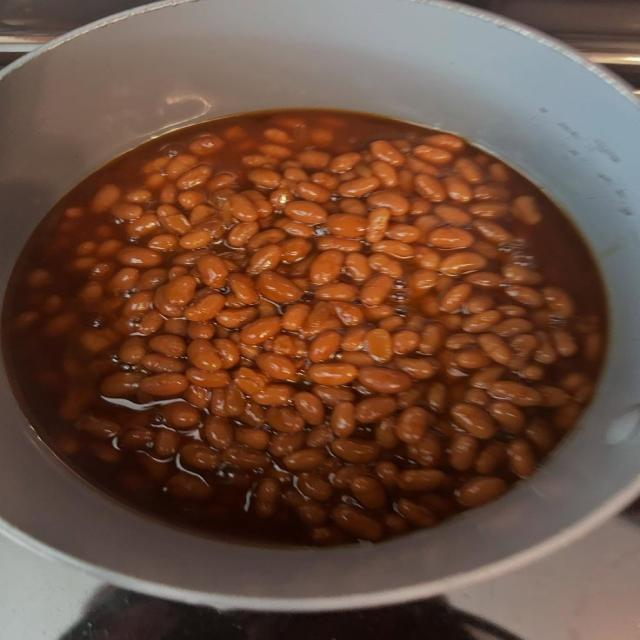beans: (11, 112, 605, 544), (332, 505, 383, 541), (349, 366, 411, 394), (451, 403, 496, 439), (307, 363, 371, 386), (257, 271, 301, 303), (488, 381, 542, 407), (458, 477, 506, 506), (397, 407, 431, 443), (331, 438, 379, 463), (309, 250, 344, 284), (240, 316, 281, 345), (351, 476, 386, 509), (489, 401, 525, 433), (439, 252, 486, 276), (187, 339, 222, 371), (185, 293, 225, 321), (477, 334, 513, 365), (355, 396, 396, 423), (256, 353, 297, 380), (140, 373, 188, 396), (397, 499, 436, 527), (427, 226, 474, 249), (367, 190, 410, 215), (360, 274, 393, 306), (474, 441, 506, 474), (449, 435, 478, 471), (507, 440, 535, 477), (294, 392, 325, 425), (298, 473, 333, 502), (285, 201, 327, 225), (163, 402, 200, 429), (542, 287, 573, 319), (197, 256, 228, 288), (440, 283, 473, 313), (394, 357, 437, 380), (398, 470, 445, 491), (267, 407, 304, 433), (309, 331, 340, 362), (283, 449, 326, 471), (117, 247, 162, 268), (327, 214, 366, 238), (370, 141, 406, 166), (185, 368, 230, 388), (90, 184, 121, 213), (414, 174, 446, 202), (366, 329, 393, 362), (366, 207, 391, 242), (331, 402, 355, 437), (513, 196, 541, 225), (414, 145, 453, 165), (392, 330, 419, 354), (247, 169, 281, 188), (329, 153, 361, 173)
